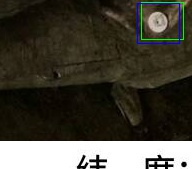text: (141, 2, 183, 39)
